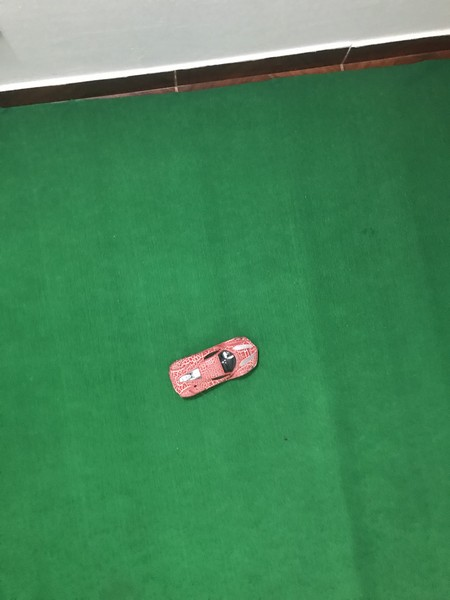RC: (168, 334, 261, 398)
